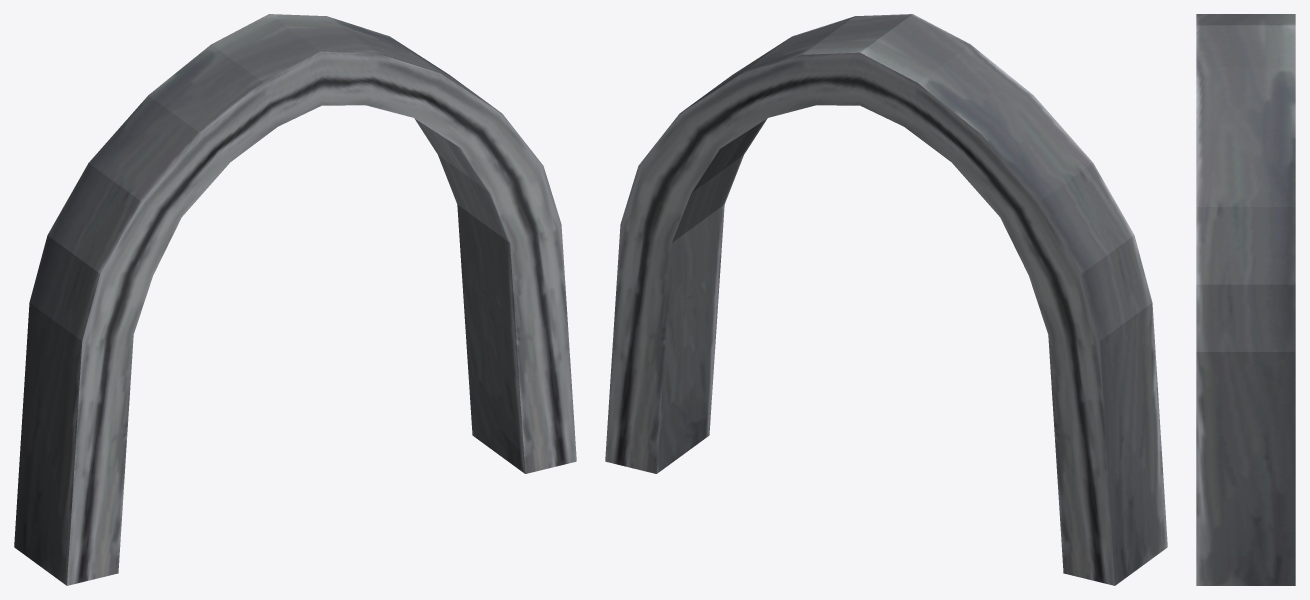
Rendered from e_throne_wall_wideentrance_frame.fbx.
3 views of the same model, side by side, from view 1: azimuth 30°, elevation 25°; view 2: azimuth 150°, elevation 25°; view 3: azimuth 270°, elevation 25° (orthographic). The views are drawn at different scales.
Parts seen in each view (by area): view 1: polySurface1540; view 2: polySurface1540; view 3: polySurface1540.
Boxes of the visible parts, <box> form: polySurface1540: <box>14,14,576,585</box>; polySurface1540: <box>605,14,1167,585</box>; polySurface1540: <box>1196,14,1295,585</box>.
Size of the model in its own units: 4.13 by 3.65 by 0.7419.
